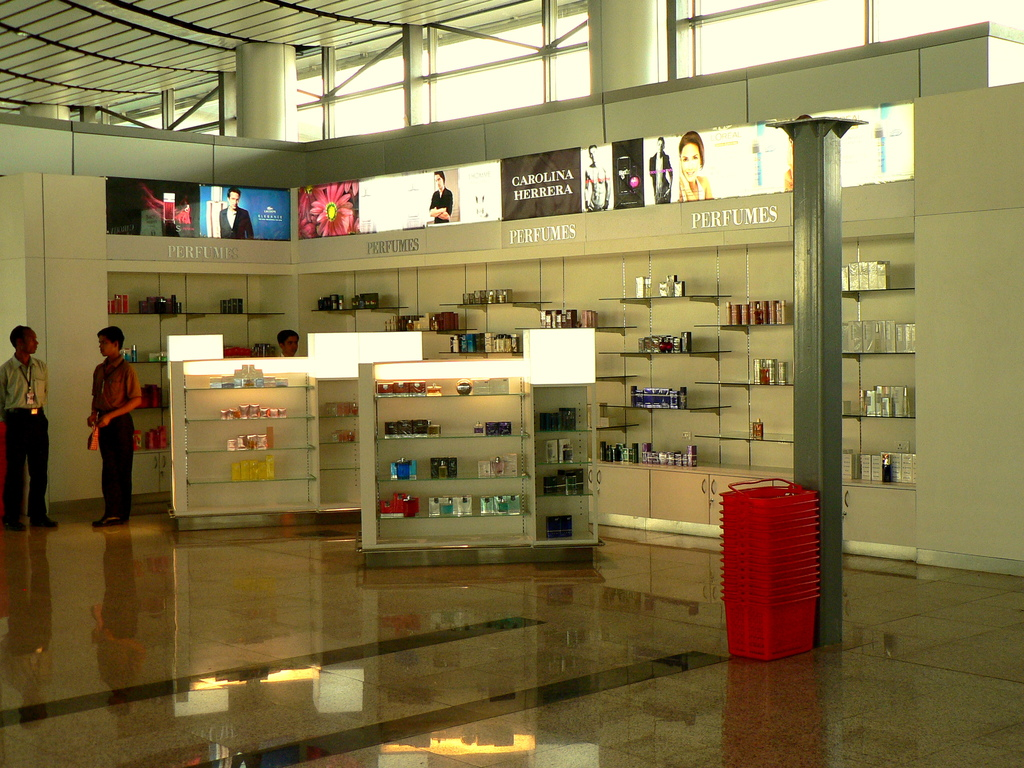Cabinetry: (360, 352, 599, 553), (141, 348, 326, 530)
